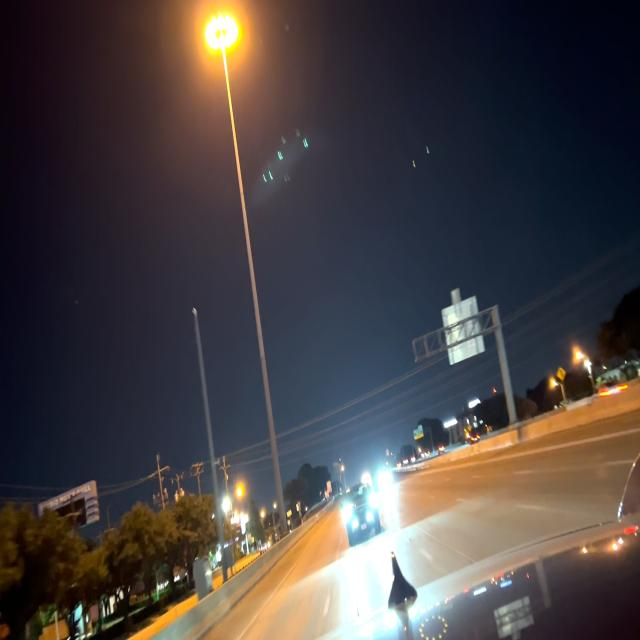back-of-sign: (443, 288, 486, 365)
